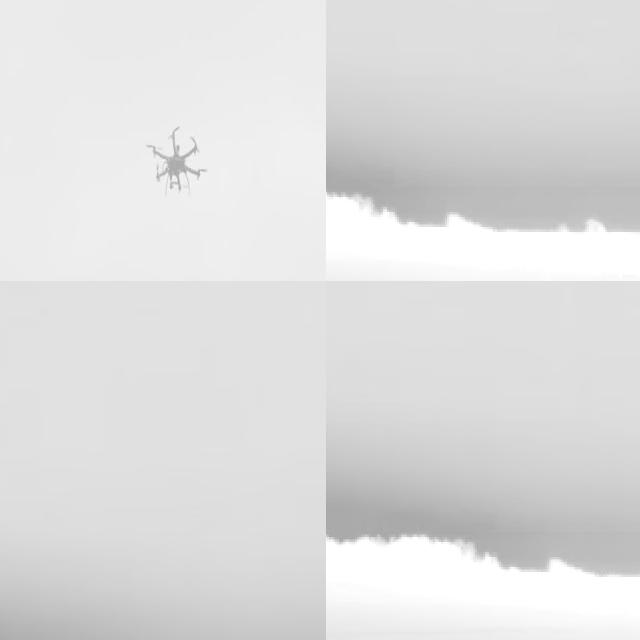drone: (145, 117, 211, 205)
